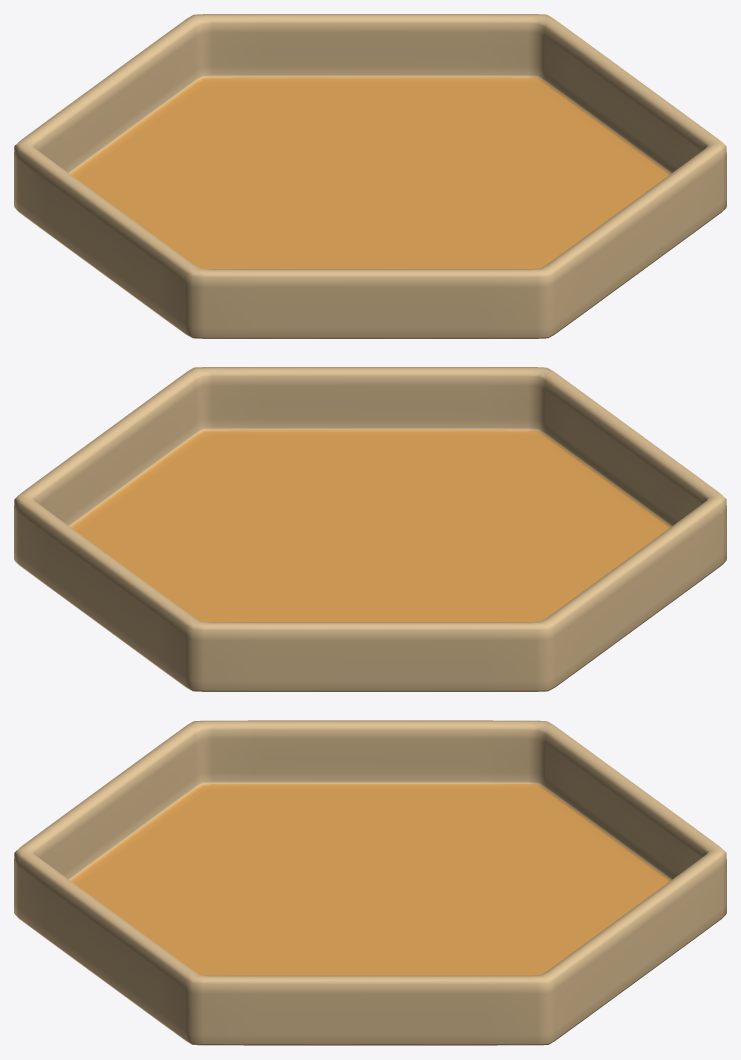
The model's file is hexagon.glb.
3 renders of one model, top to bottom at view 1: azimuth 30°, elevation 25°; view 2: azimuth 150°, elevation 25°; view 3: azimuth 270°, elevation 25°, orthographic.
Parts seen in each view (by area): view 1: Circle; view 2: Circle; view 3: Circle.
Part boxes in pixels (x1,y1,x2,y2): Circle: (14, 14, 726, 338); Circle: (14, 367, 726, 691); Circle: (14, 720, 726, 1045).
Size of the model in its own units: 0.866 by 0.1001 by 0.9953.
1 material, 1 textured.
